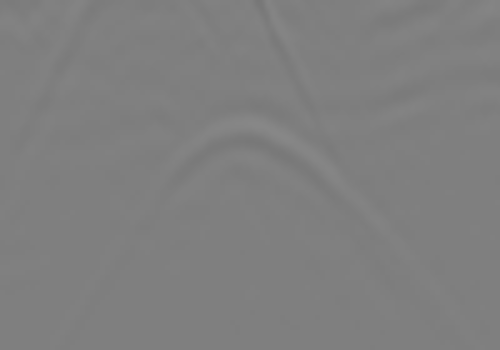hyperbola: (63, 117, 449, 314)
